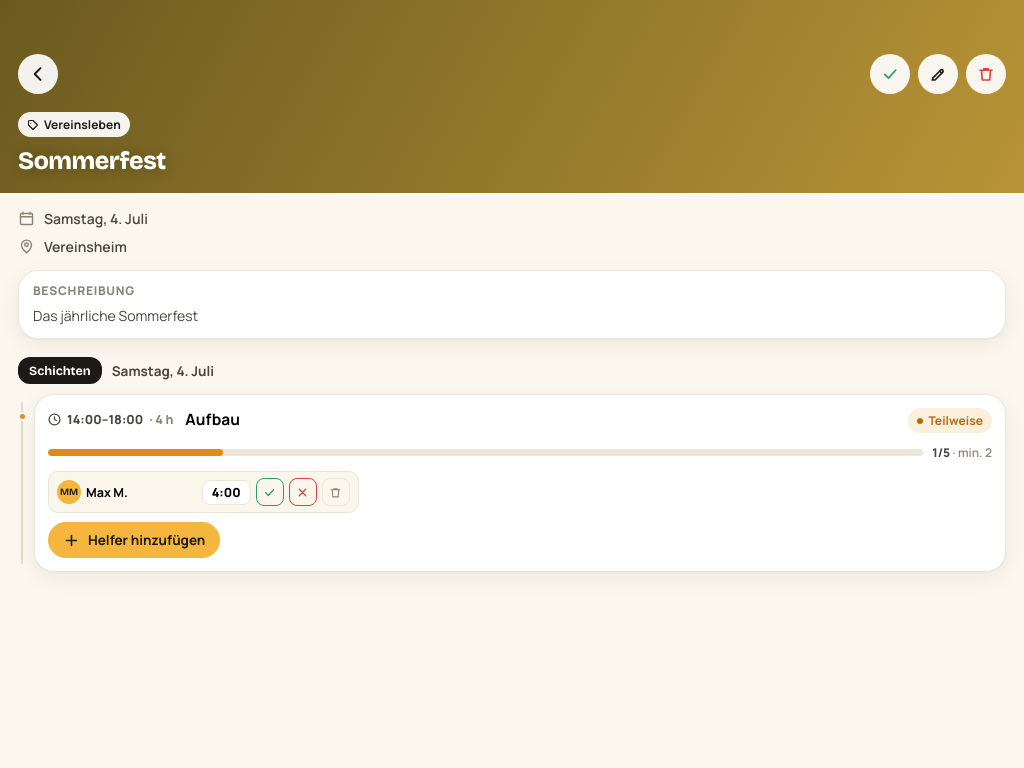
Test: EventDetail click-through under the app-level remount key › opens the time-edit sheet after expanding the list and clicking "Zeit bearbeiten"
Click the button titled "Zeit bearbeiten": point(226, 492) x1=202 y1=480 x2=251 y2=504
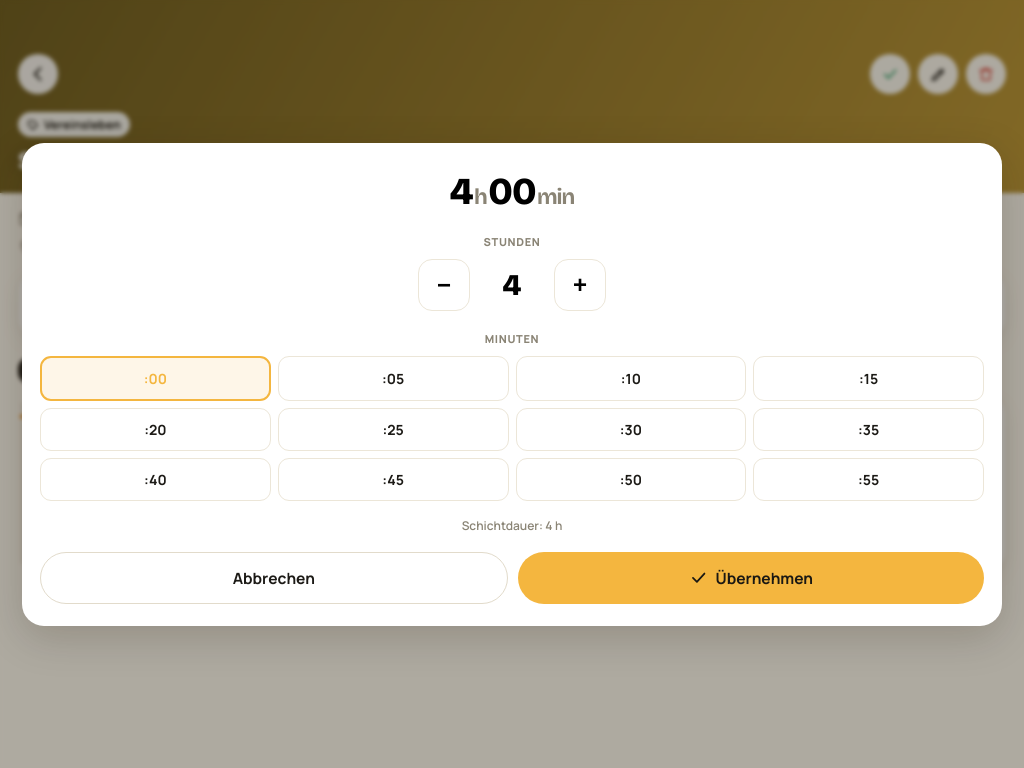
Now the button "Übernehmen" is shown, box x1=518 y1=552 x2=984 y2=604
